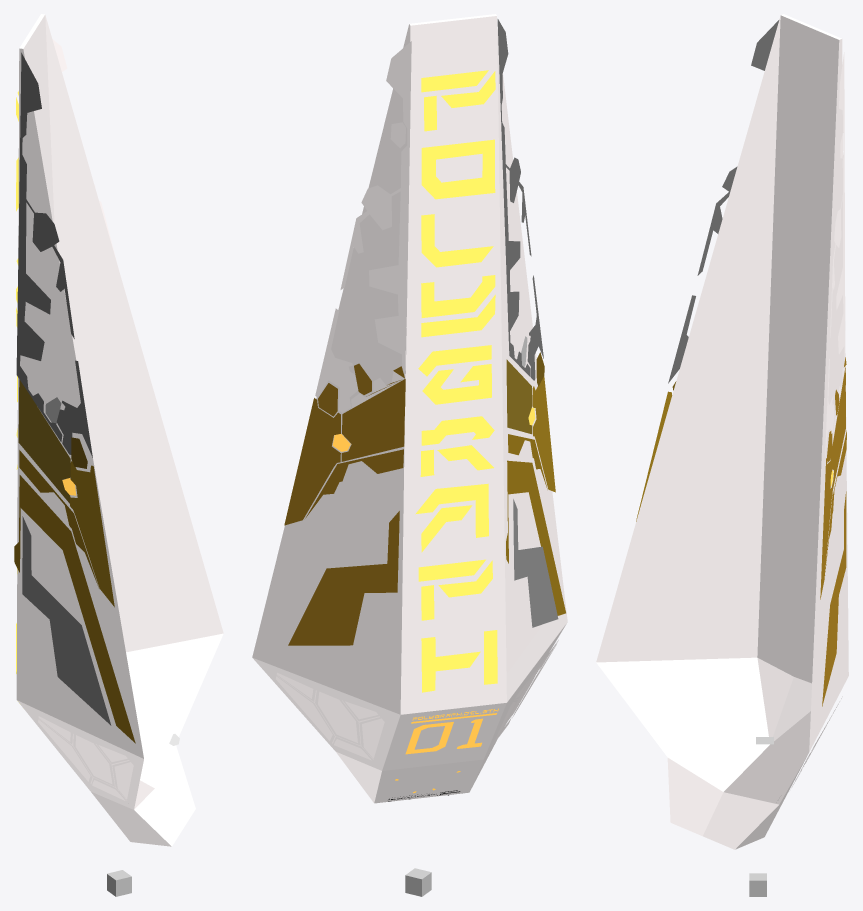
Rendered from wallUI.glb.
3 views of the same model, side by side, from view 1: azimuth 30°, elevation 25°; view 2: azimuth 150°, elevation 25°; view 3: azimuth 270°, elevation 25° (orthographic). The views are drawn at different scales.
Parts seen in each view (by area): view 1: spire.002, path5006-2.007, path5006-2.003, path5006-2.002, path5006-2.001, path8020, path5006-2.006, path5006-2.005, Cube; view 2: spire.002, polygraphHeader, path5014.012, path5014.006, path4894-0, path8020.001, path5014.004, path5006-2.007, path5006-2.003, path5006-2.002, path5006-2.001, path5006-2.006 (+3 smaller); view 3: spire.002, path5014.012, path5006-2.007, path5014.006, path5014.004, path4894-0.
Boxes of the visible parts, x1=… form: spire.002: x1=16, y1=14, x2=223, y2=846; path5006-2.007: x1=16, y1=52, x2=92, y2=457; path5006-2.003: x1=22, y1=516, x2=111, y2=725; path5006-2.002: x1=14, y1=475, x2=135, y2=743; path5006-2.001: x1=18, y1=379, x2=70, y2=503; path8020: x1=38, y1=716, x2=133, y2=800; path5006-2.006: x1=70, y1=461, x2=114, y2=607; path5006-2.005: x1=19, y1=450, x2=98, y2=587; Cube: x1=107, y1=870, x2=131, y2=896; spire.002: x1=252, y1=14, x2=567, y2=803; polygraphHeader: x1=415, y1=70, x2=497, y2=692; path5014.012: x1=315, y1=41, x2=411, y2=412; path5014.006: x1=288, y1=511, x2=399, y2=645; path4894-0: x1=341, y1=379, x2=405, y2=461; path8020.001: x1=276, y1=672, x2=384, y2=760; path5014.004: x1=284, y1=398, x2=340, y2=525; path5006-2.007: x1=497, y1=19, x2=543, y2=380; path5006-2.003: x1=513, y1=499, x2=558, y2=627; path5006-2.002: x1=506, y1=460, x2=565, y2=615; path5006-2.001: x1=506, y1=359, x2=532, y2=434; path5006-2.006: x1=532, y1=376, x2=555, y2=492; spire.002: x1=596, y1=14, x2=848, y2=849; path5014.012: x1=825, y1=52, x2=845, y2=456; path5006-2.007: x1=668, y1=20, x2=779, y2=383; path5014.006: x1=822, y1=491, x2=846, y2=706; path5014.004: x1=820, y1=452, x2=832, y2=599; path4894-0: x1=832, y1=367, x2=845, y2=490.
Bounding box in the file's own units: 28.34 × 103 × 28.19.
